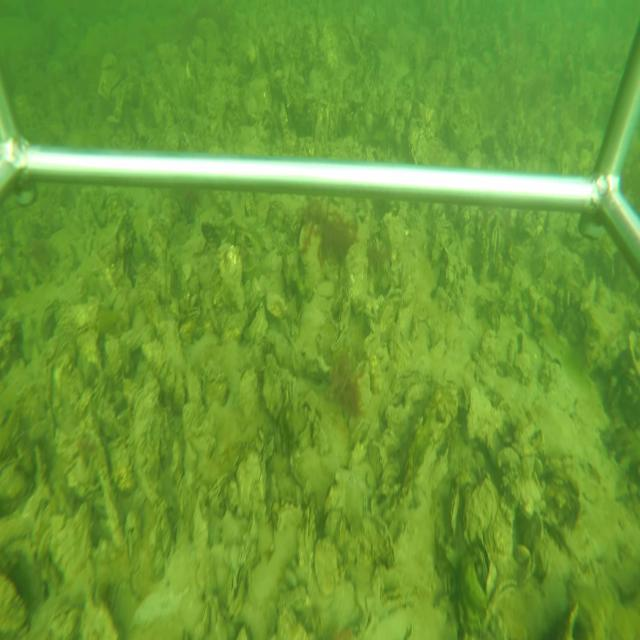Oyster-Closed: (226, 512, 257, 616), (255, 428, 273, 504), (330, 303, 351, 354), (206, 472, 231, 511), (449, 485, 460, 537)
Oyster-Indeterminate: (129, 377, 168, 501), (232, 430, 272, 513)
